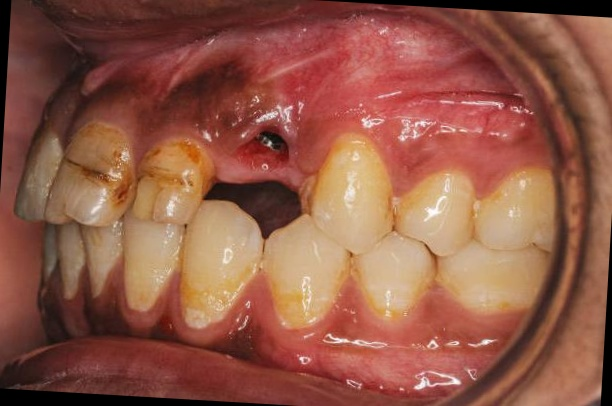Gingivitis: (139, 51, 256, 139), (94, 66, 139, 117), (77, 299, 137, 337), (221, 311, 266, 359), (153, 305, 176, 343)
